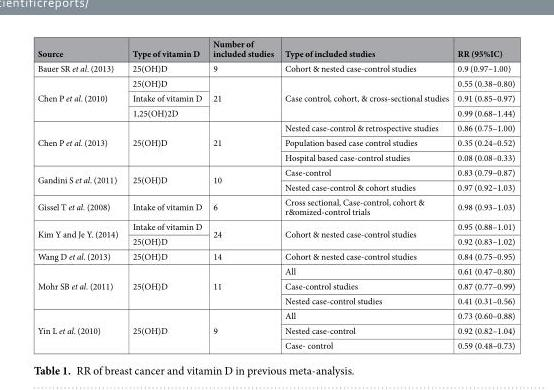table: (36, 37, 514, 351)
table column: (278, 37, 452, 351), (36, 37, 124, 351), (124, 37, 206, 351), (206, 37, 278, 351), (452, 37, 514, 351)
table column header: (36, 37, 514, 60)
table row: (36, 194, 514, 218), (36, 37, 514, 60), (36, 60, 514, 75), (36, 75, 514, 90), (36, 90, 514, 105), (36, 119, 514, 134), (36, 134, 514, 149), (36, 149, 514, 164), (36, 164, 514, 179), (36, 179, 514, 194), (36, 218, 514, 233), (36, 233, 514, 248), (36, 248, 514, 263), (36, 263, 514, 278), (36, 278, 514, 293), (36, 307, 514, 322), (36, 322, 514, 337), (36, 105, 514, 119), (36, 293, 514, 307), (36, 337, 514, 351)
table spanning cell: (278, 75, 452, 119), (278, 218, 452, 248), (36, 119, 124, 164), (36, 75, 124, 119), (36, 263, 124, 307), (36, 307, 124, 351), (124, 119, 206, 164), (124, 263, 206, 307), (124, 307, 206, 351), (206, 119, 278, 164), (206, 75, 278, 119), (206, 263, 278, 307), (206, 307, 278, 351), (36, 164, 124, 194), (36, 218, 124, 248), (124, 164, 206, 194), (206, 164, 278, 194), (206, 218, 278, 248)
